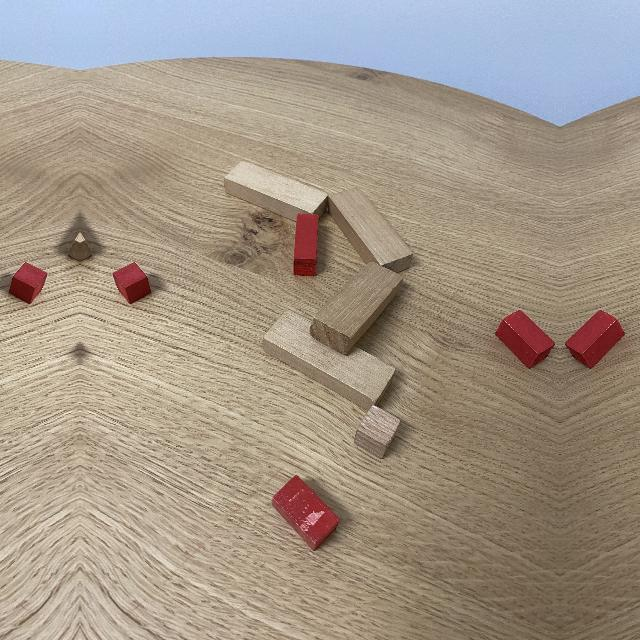cube: (354, 405, 400, 459)
jenga: (262, 311, 396, 411), (312, 263, 402, 355), (328, 188, 413, 273), (224, 162, 327, 220), (80, 229, 92, 263), (68, 229, 80, 263)
red block: (271, 476, 340, 551), (495, 310, 555, 369), (565, 310, 625, 369), (294, 212, 316, 274)
red cube: (113, 262, 151, 304), (9, 262, 47, 304)
